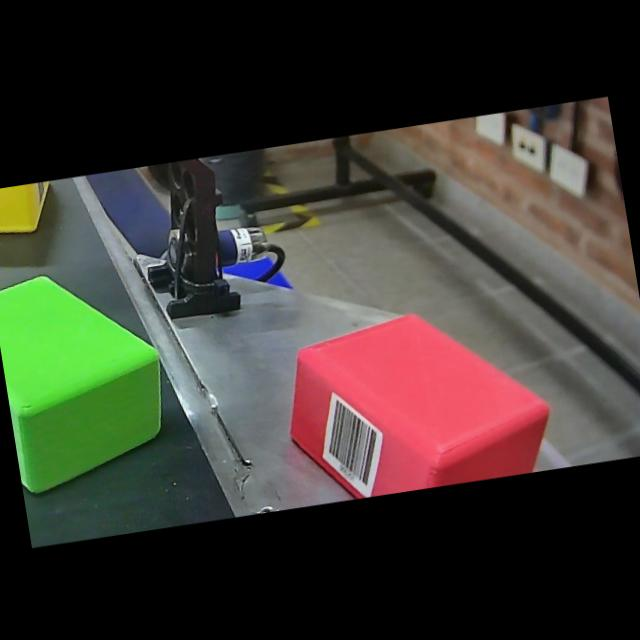greenBox: (0, 250, 190, 505)
redBox: (267, 289, 569, 509)
yellowBox: (0, 178, 69, 247)
